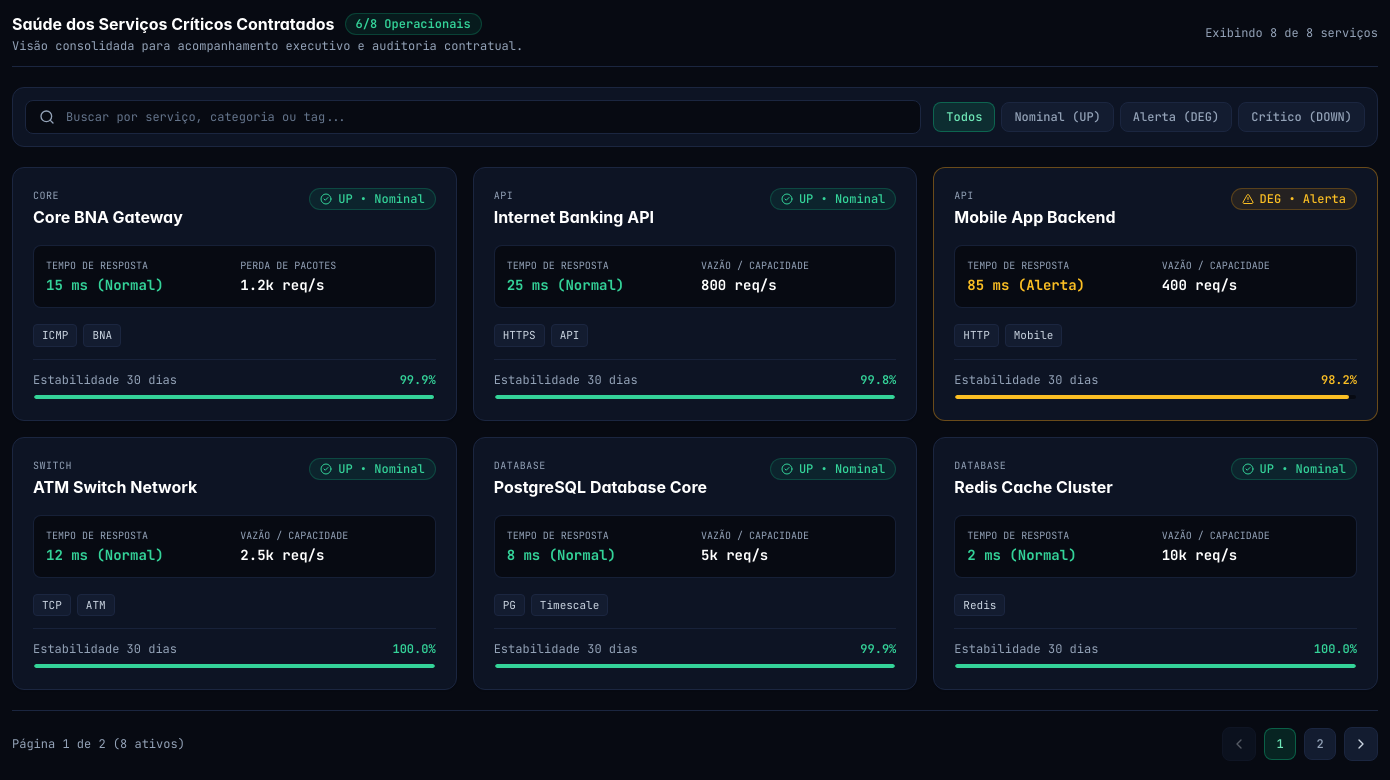
Test: Portal do Cliente - SanitizedServicesGrid (Busca e Paginação) › deve exibir empty state quando a busca não retornar resultados e permitir limpeza
Type "ServicoInexistente123" into the field with test id "services-search-input" at (473, 117), box [25,100,921,134]
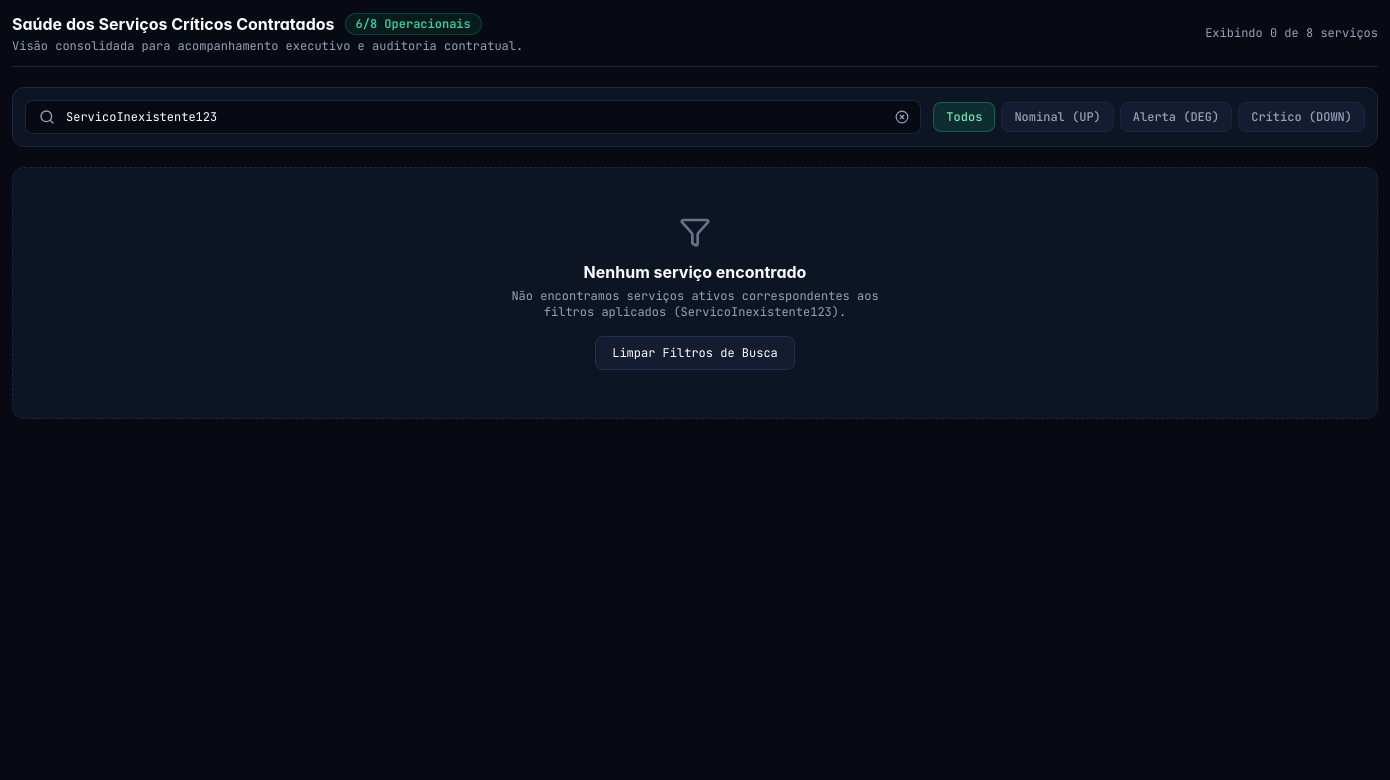
expect the element with test id "services-filter-empty" is shown: met, box [12,167,1378,419]
expect the heading "Nenhum serviço encontrado" is shown: met, box [584,260,806,284]
Note: Limpar filtros
Click the button "Limpar Filtros de Busca" at (695, 353), box [595,336,795,370]
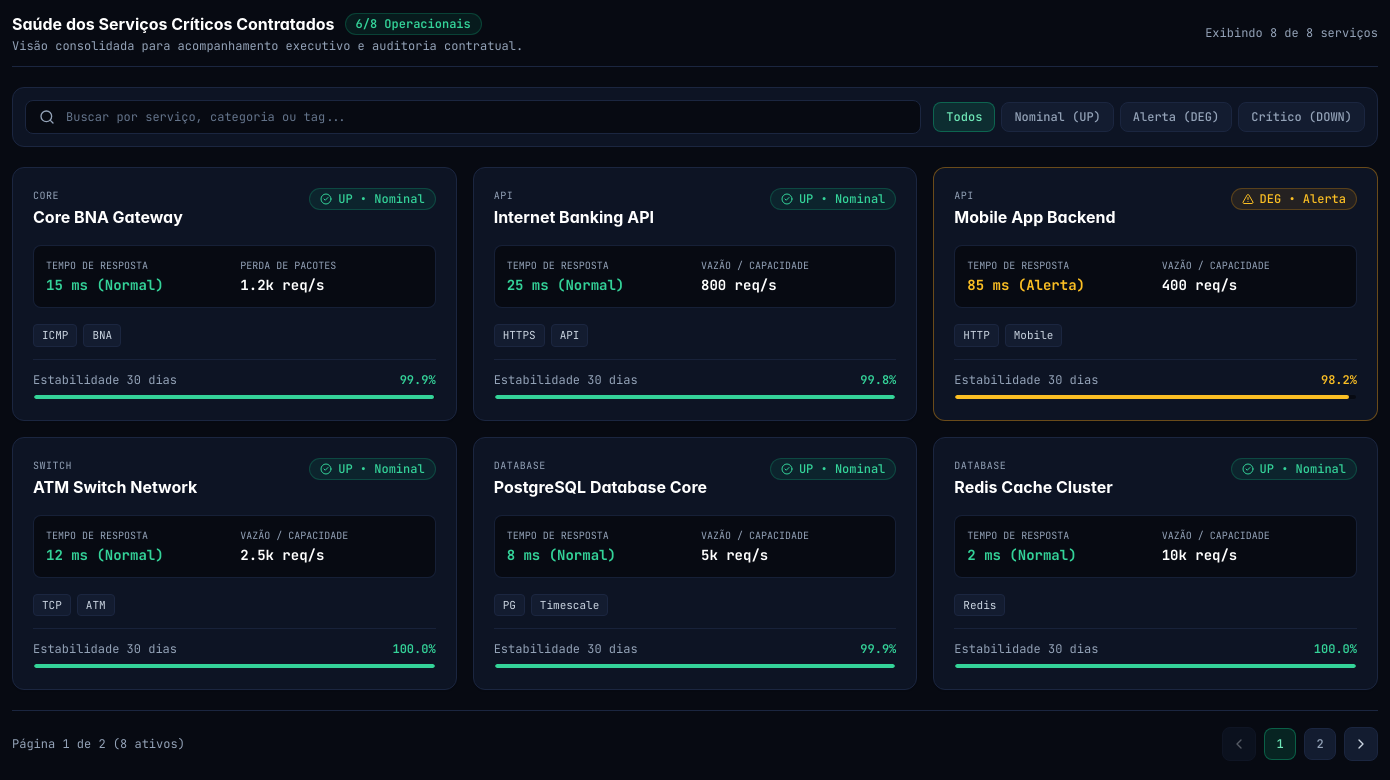
expect the heading "Core BNA Gateway" is shown: met, box [33,205,183,229]
